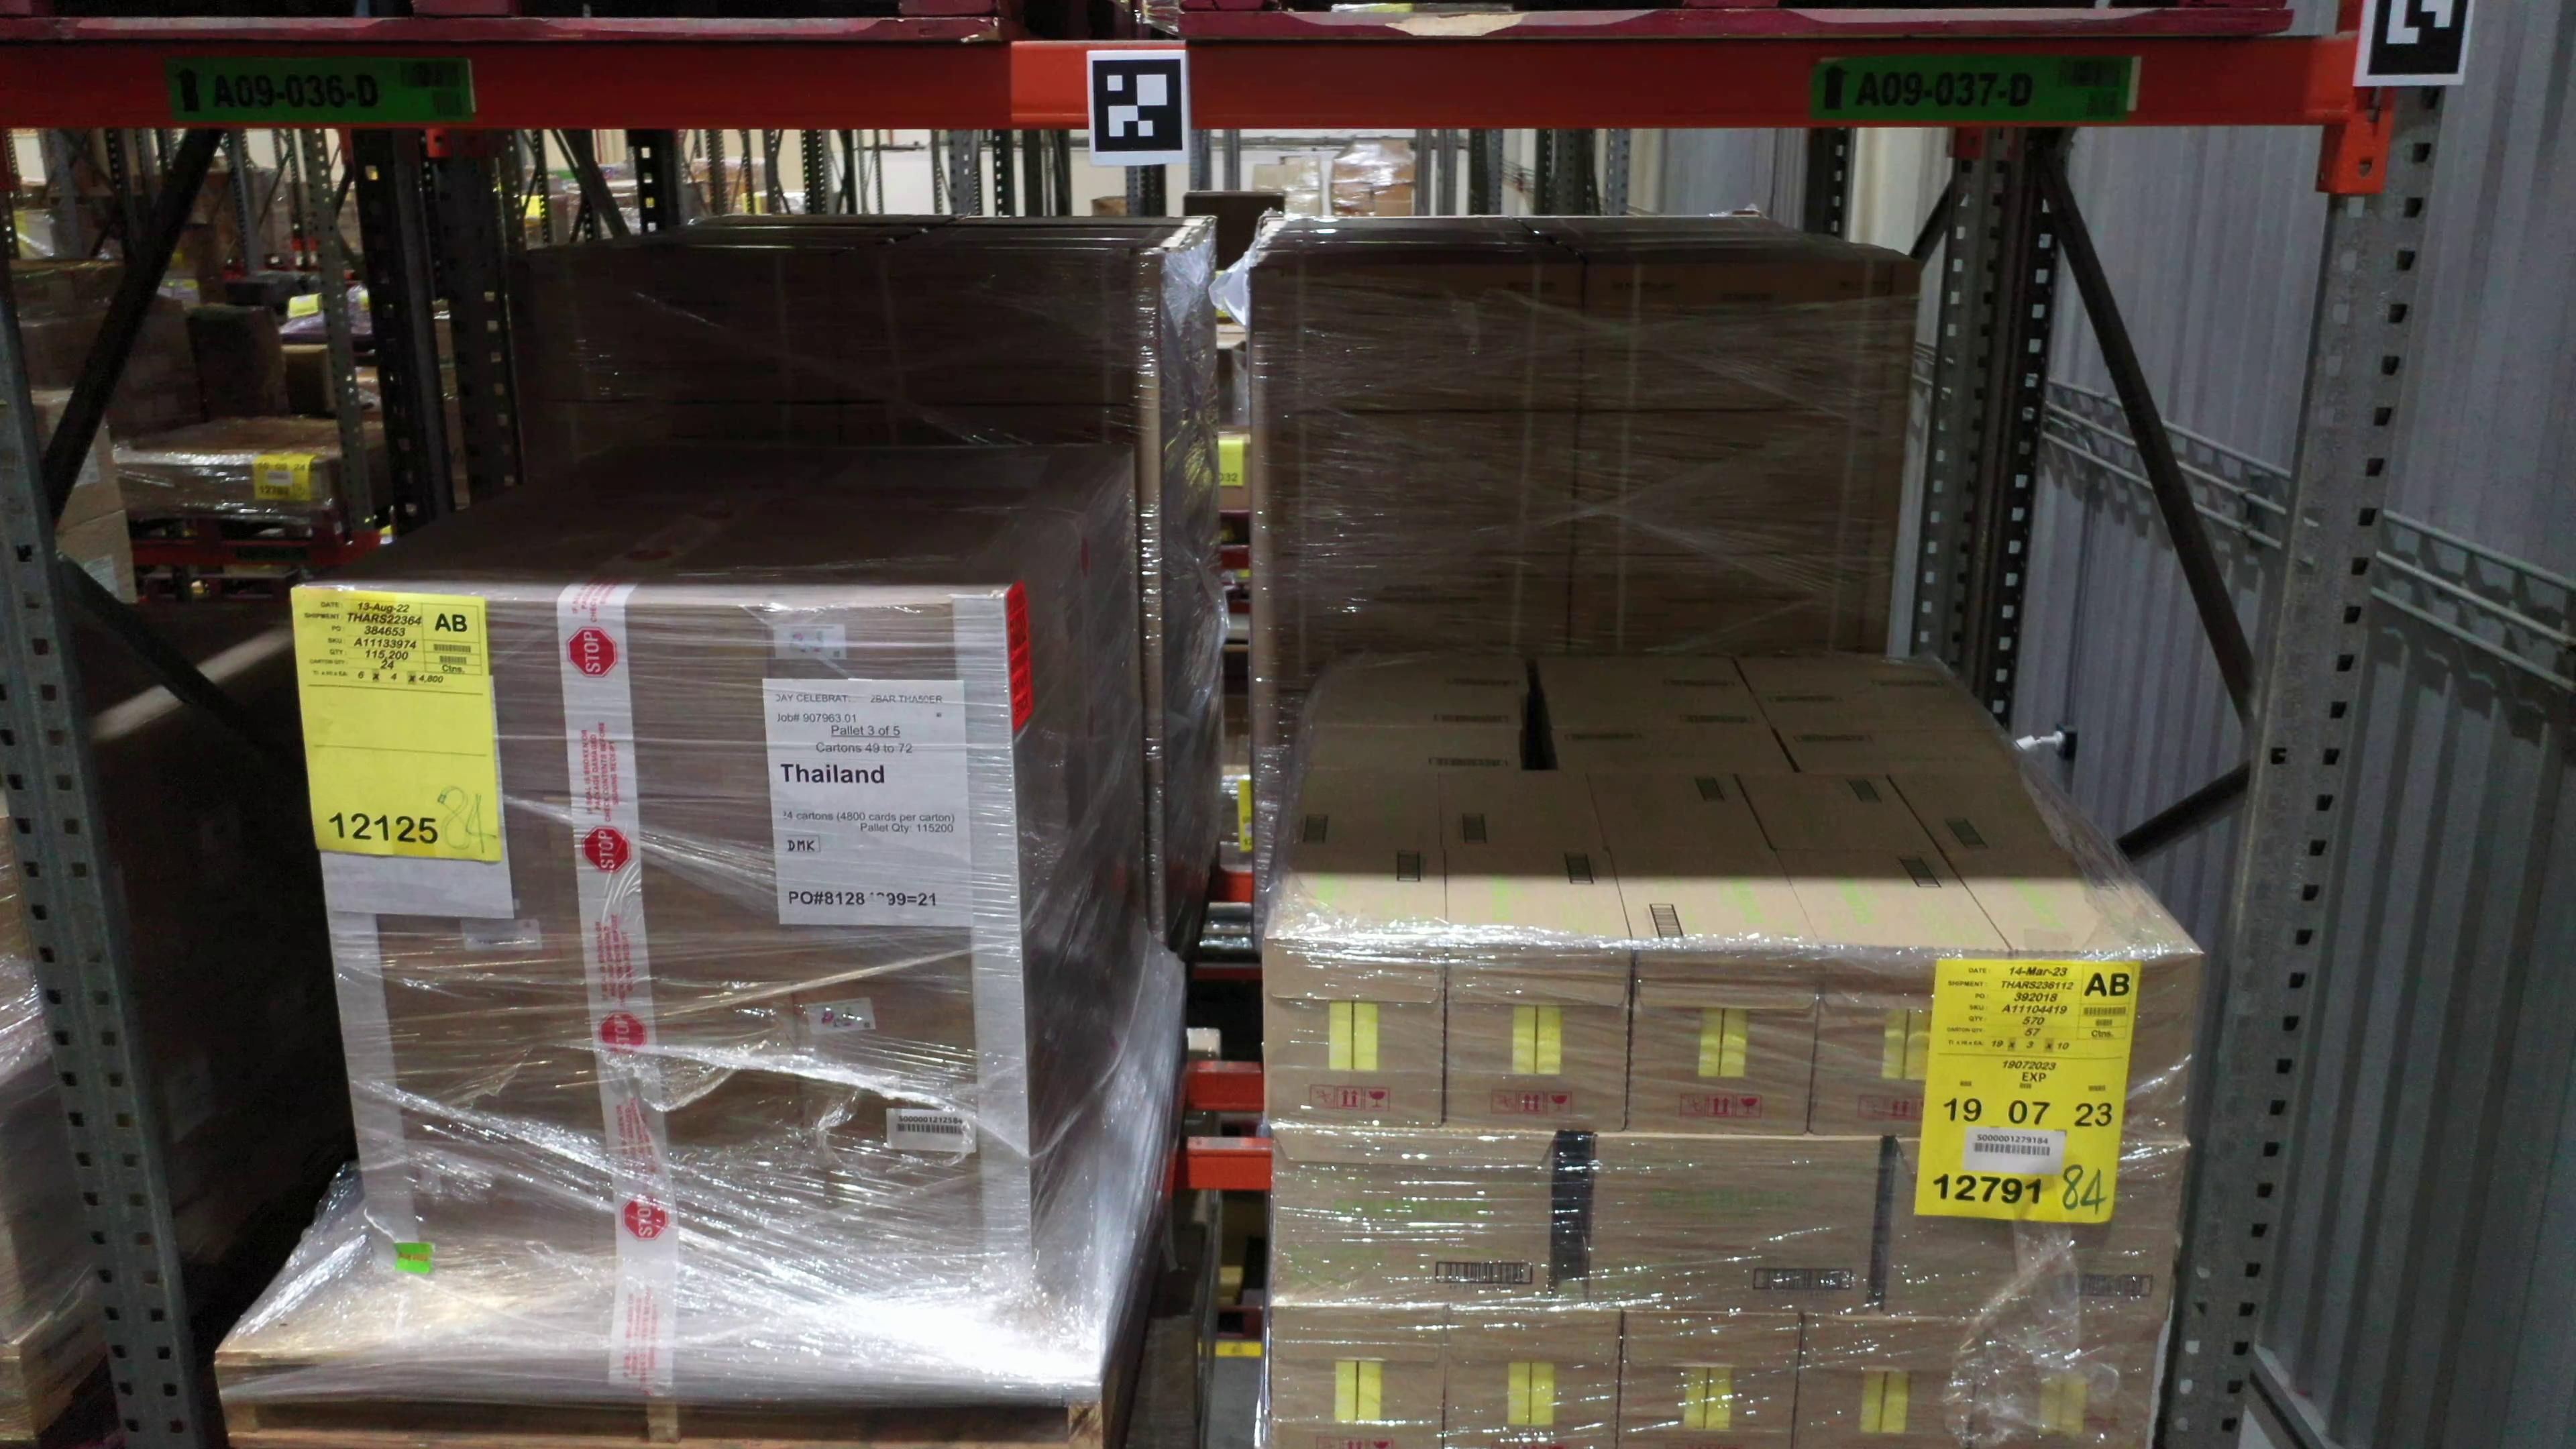-: (294, 586, 768, 800), (552, 791, 1023, 989), (340, 977, 800, 1155), (591, 1150, 1033, 1325), (1881, 1138, 2187, 1322), (1585, 1136, 1882, 1320), (1272, 1129, 1559, 1313), (763, 600, 1014, 805), (313, 789, 561, 982), (1997, 950, 2206, 1146), (359, 1141, 600, 1311), (796, 985, 1031, 1159), (1805, 943, 2010, 1138), (1629, 943, 1824, 1141), (1442, 943, 1637, 1134), (1263, 938, 1447, 1136), (1265, 1306, 1449, 1449), (1442, 1306, 1626, 1449), (1619, 1306, 1803, 1449), (1969, 1320, 2162, 1449), (1794, 1316, 1982, 1449)
box: (1251, 251, 1583, 416), (1582, 257, 1913, 416), (837, 248, 1162, 405), (1573, 412, 1907, 557), (1251, 414, 1576, 563), (531, 251, 840, 405), (1251, 557, 1569, 695), (1569, 548, 1891, 662)
